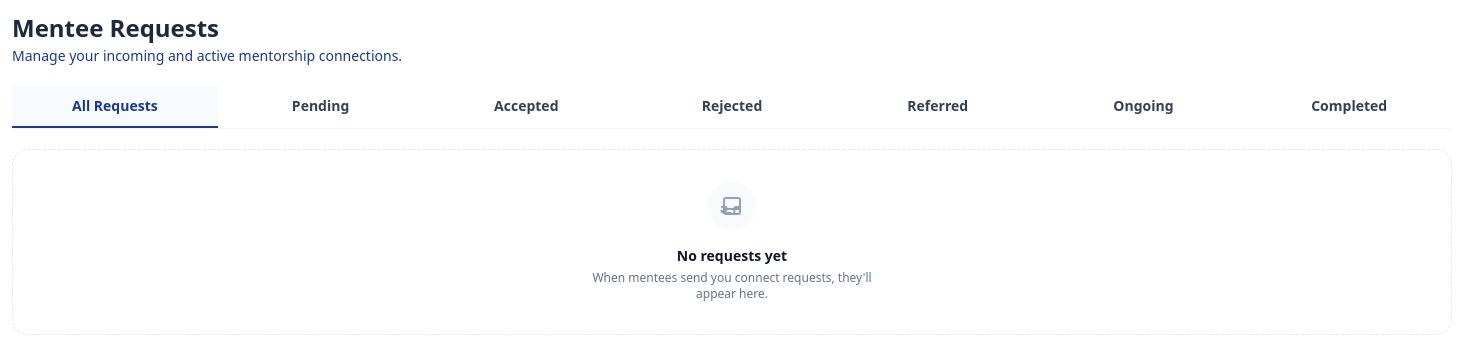
Test case: RequestsTab Component › displays empty state with appropriate message for tabs
The image size is (1464, 352).
Expected: the heading "No requests yet" is shown, [677, 246, 787, 266]
Expected: the text "When mentees send you connect requests, they'll appear here." is shown, [572, 270, 892, 302]
Note: Click pending tab
Click the button "Pending". click: (321, 107)
box: [218, 86, 423, 128]
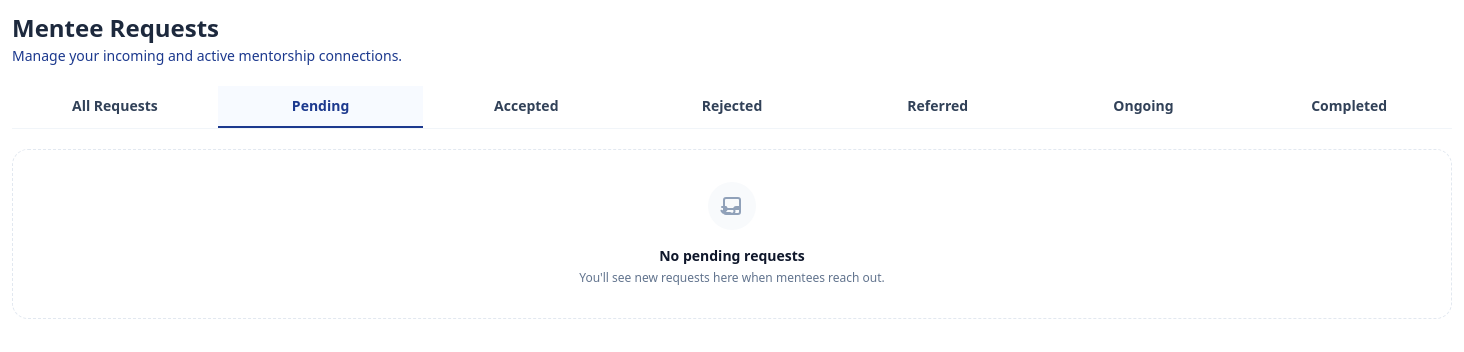
Now the heading "No pending requests" is shown, box [659, 246, 805, 266]
Now the text "You'll see new requests here when mentees reach out." is shown, box [579, 270, 885, 286]
